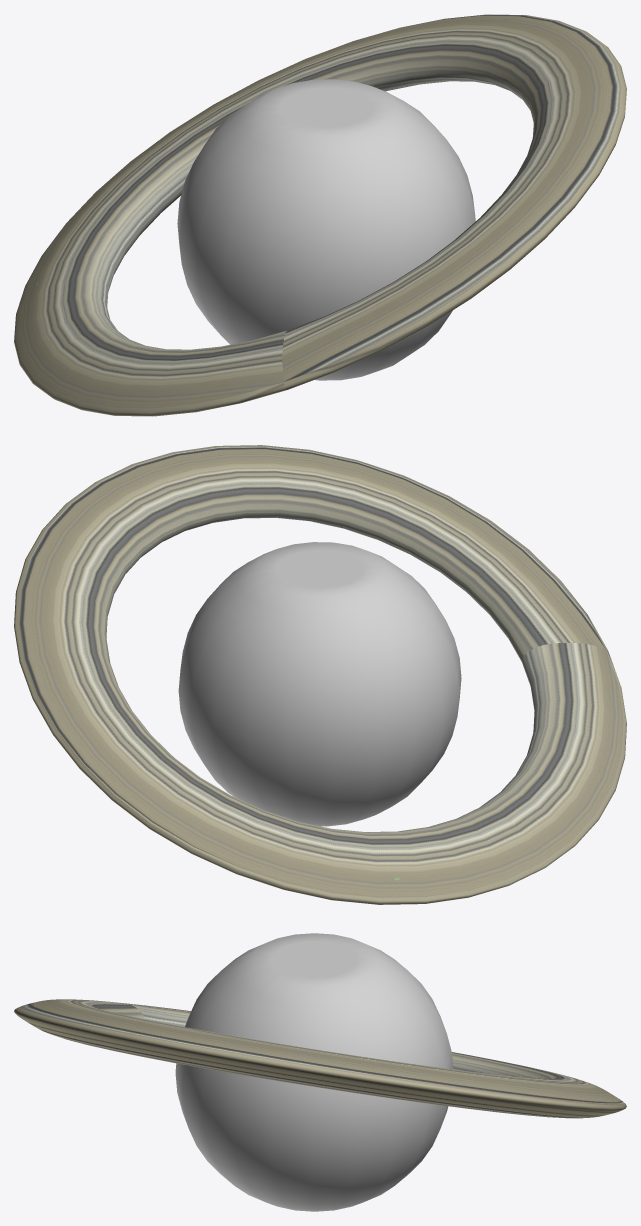
File: Saturn.fbx
3 renders of one model, top to bottom at view 1: azimuth 30°, elevation 25°; view 2: azimuth 150°, elevation 25°; view 3: azimuth 270°, elevation 25°, orthographic. The views are drawn at different scales.
Visible parts, largest first — view 1: pTorus1, pSphere5; view 2: pTorus1, pSphere5; view 3: pSphere5, pTorus1.
Boxes of the visible parts, x1,y1,x2,y2 form: pTorus1: (14,14,626,416); pSphere5: (177,79,475,380); pTorus1: (14,445,626,904); pSphere5: (178,542,461,826); pSphere5: (175,933,453,1211); pTorus1: (14,999,626,1118).
Size of the model in its own units: 47.17 by 23.26 by 50.5.
